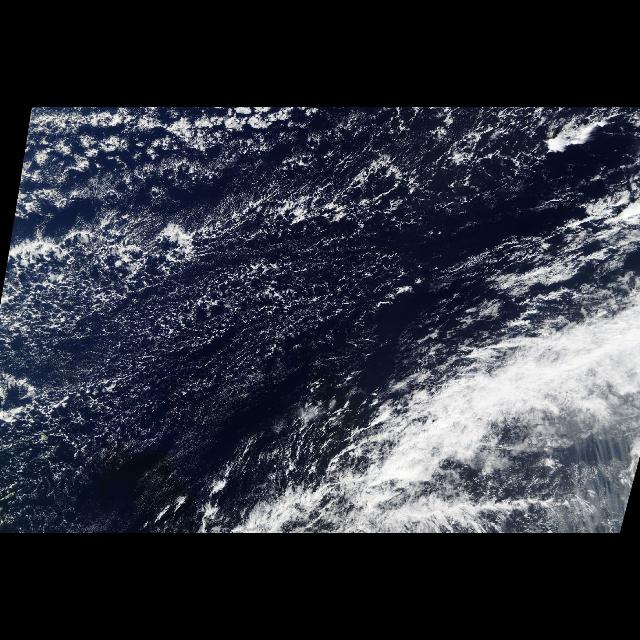Gravel: (0, 107, 544, 445)
